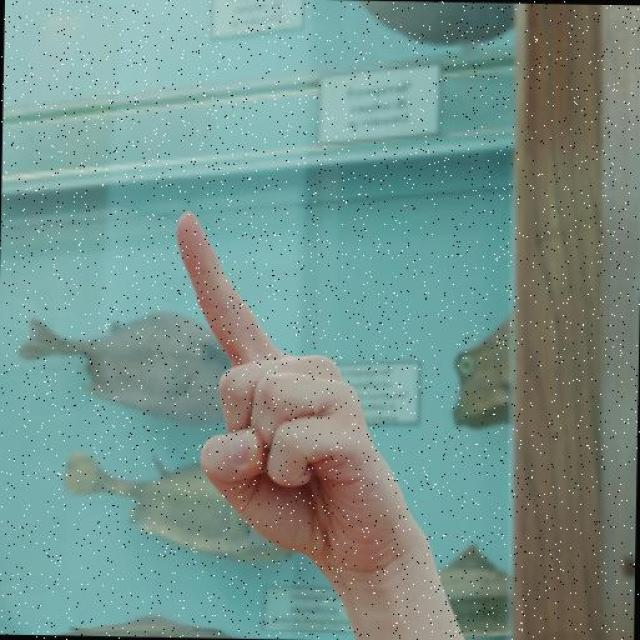Z: (167, 207, 444, 579)
